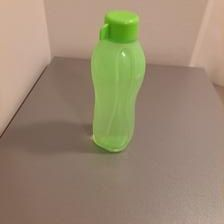bottle: (86, 10, 147, 154)
